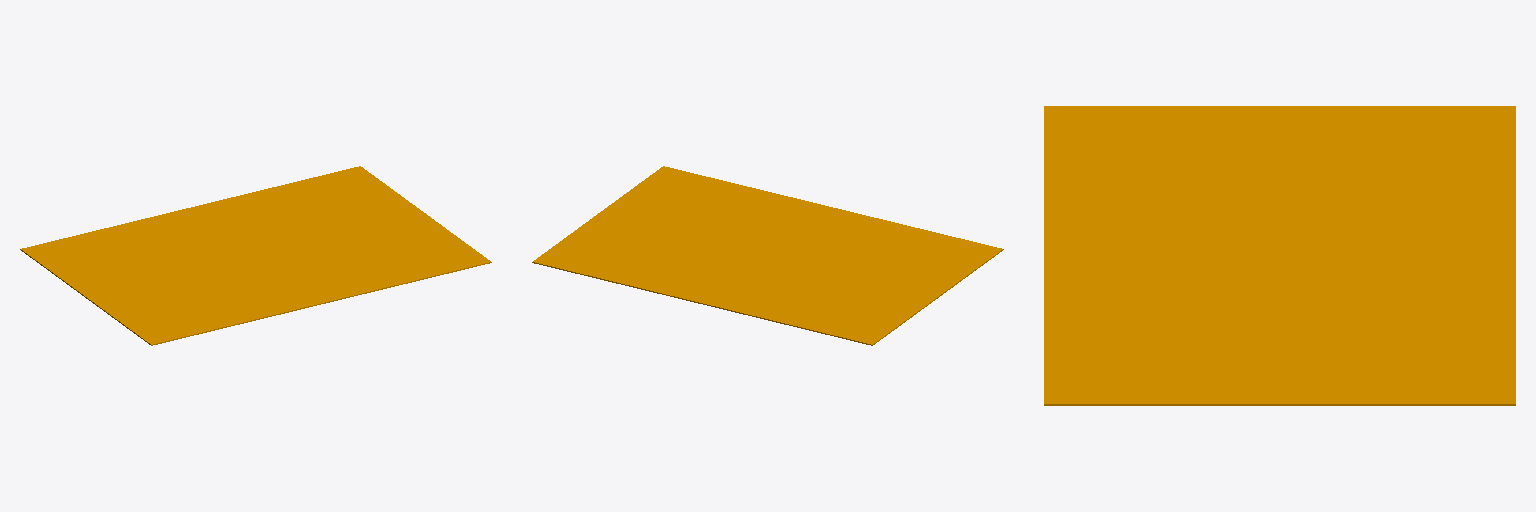
The robot description file, URDF, robot "eurobot_table":
<?xml version="1.0"?>
<robot name="eurobot_table" xmlns:xacro="http://www.ros.org/wiki/xacro">

  <link name="table_link">
    <visual>
      <origin xyz="0 0 -0.005" rpy="0 0 0"/>
      <geometry>
        <box size="3.0 2.0 0.01"/>
      </geometry>
      <material name="table_texture">
        <texture filename="package://robot_visualization/images/eurobot_mat.png"/>
      </material>
    </visual>
    <collision>
      <origin xyz="0 0 -0.005" rpy="0 0 0"/>
      <geometry>
        <box size="3.0 2.0 0.01"/>
      </geometry>
    </collision>
  </link>

</robot>

--- What the picture shows (computed from the rendered views, not written in the file) ---
3 views of the same robot in one strip: view 1: azimuth 30°, elevation 25°; view 2: azimuth 150°, elevation 25°; view 3: azimuth 270°, elevation 25° (orthographic).
Robot: eurobot_table — 1 links, 0 joints (none); root link table_link; default pose: every joint at zero.
Links seen in each view (by area): view 1: table_link; view 2: table_link; view 3: table_link.
Link boxes in pixels (box(x1,y1,x2,y2)): table_link: box(20, 166, 491, 345); table_link: box(532, 166, 1003, 345); table_link: box(1044, 106, 1515, 405).
Bounding box of the posed robot: 3 × 2 × 0.01 m (x, y, z).
Geometry: primitives only (box / cylinder / sphere), no mesh files.
